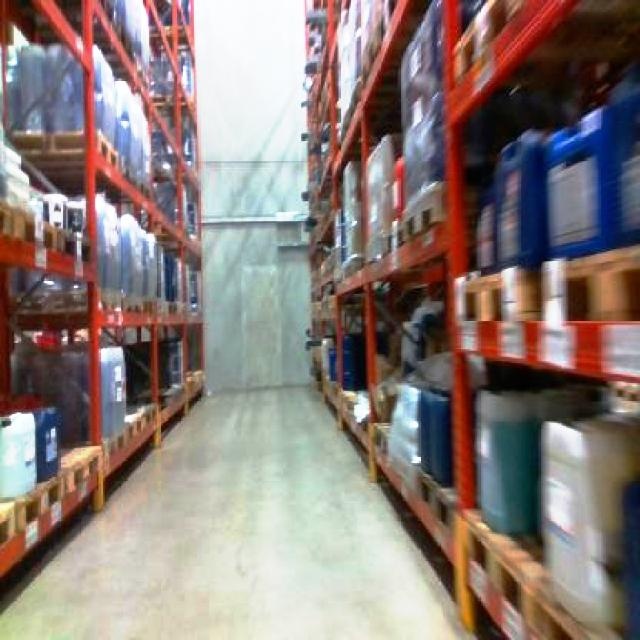ground: (0, 382, 491, 638)
pallet: (300, 0, 638, 638)
